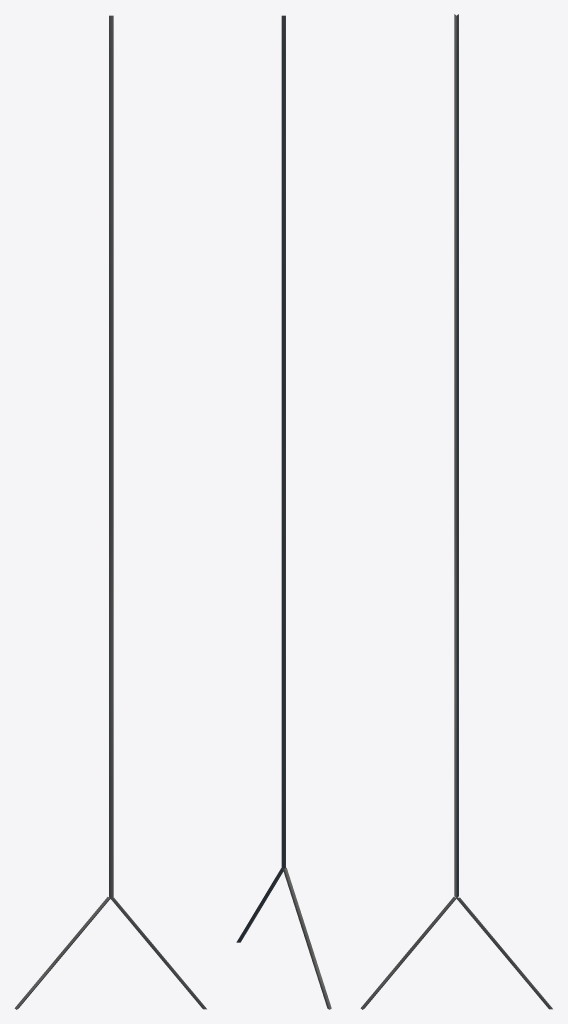
The model's file is cablecrane.glb.
3 renders of one model, left to right at view 1: azimuth 90°, elevation 25°; view 2: azimuth 210°, elevation 25°; view 3: azimuth 270°, elevation 25°, orthographic. The views are drawn at different scales.
Parts seen in each view (by area): view 1: cablecrane; view 2: cablecrane; view 3: cablecrane.
Part boxes in pixels (<box>): cablecrane: <box>14,15,206,1009</box>; cablecrane: <box>236,15,331,1009</box>; cablecrane: <box>360,14,552,1009</box>.
Bounding box in the file's own units: 18.51 × 3879 × 683.
Materials: 1 (1 with a texture image).
